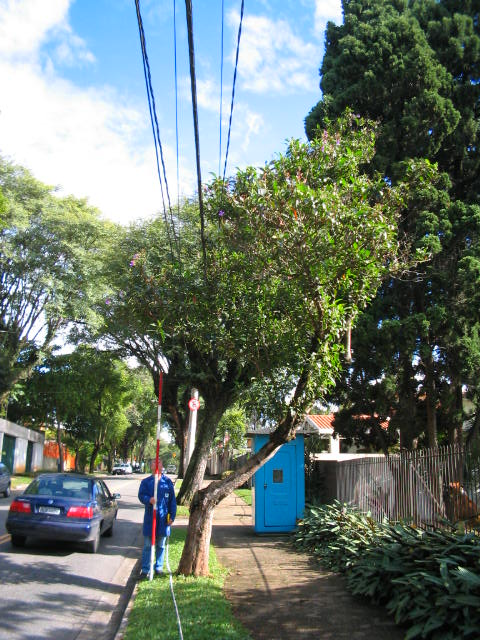crown: (150, 114, 405, 427)
stem: (179, 480, 230, 575)
stick: (145, 368, 166, 581)
tree: (147, 109, 405, 576)
